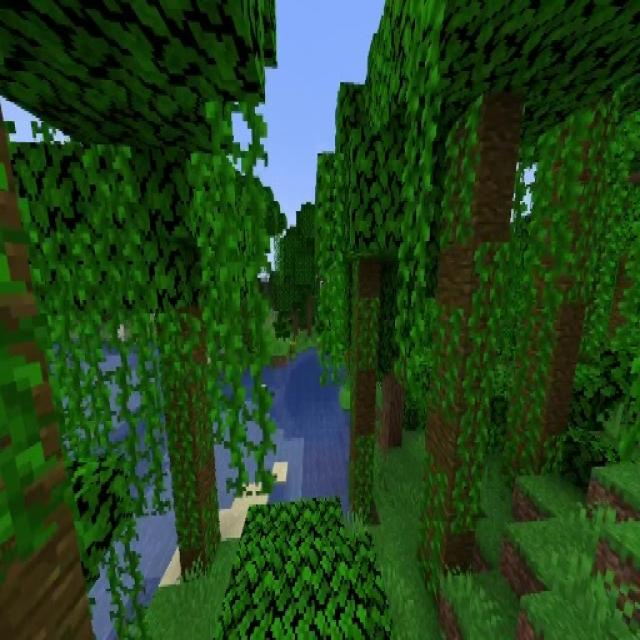jungle: (372, 0, 624, 593), (20, 0, 278, 575), (316, 83, 424, 527)
jungle_log: (418, 107, 516, 598), (503, 107, 607, 492), (155, 311, 221, 578), (352, 260, 376, 520)
oak_log: (381, 371, 402, 450)
